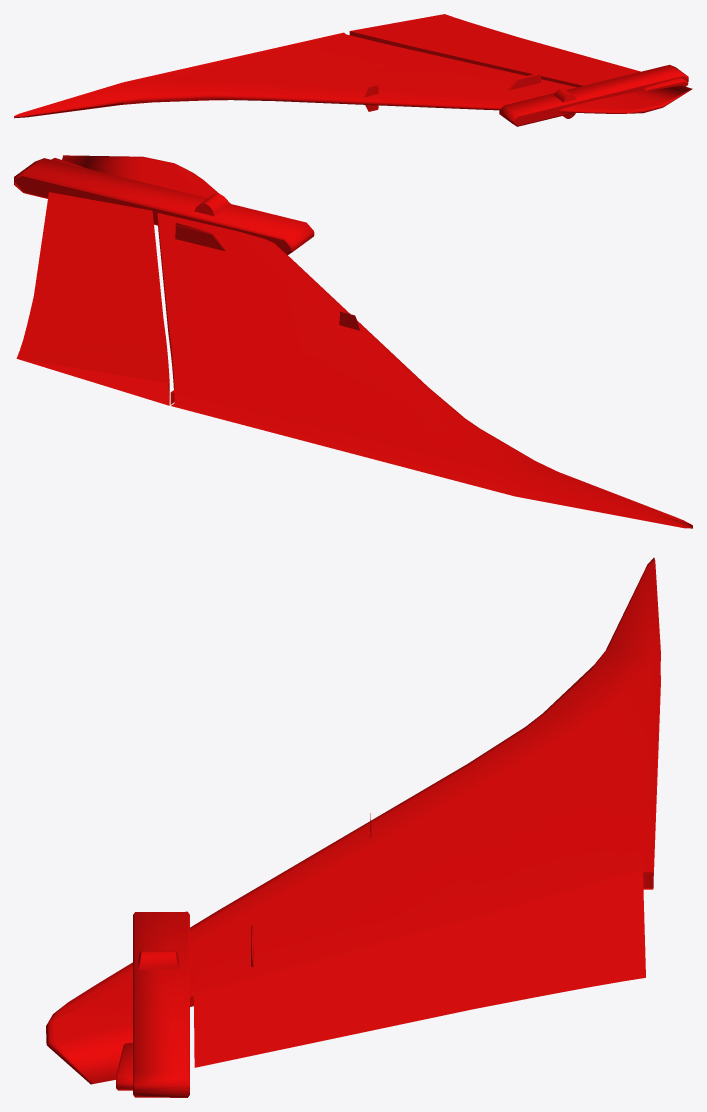
The model's file is rafale_highlight_10.fbx.
The picture shows the model from 3 angles, top to bottom: view 1: azimuth 30°, elevation 25°; view 2: azimuth 150°, elevation 25°; view 3: azimuth 270°, elevation 25°; orthographic projection. The views are drawn at different scales.
Visible parts, largest first — view 1: rafale_highlight_10; view 2: rafale_highlight_10; view 3: rafale_highlight_10.
Boxes of the visible parts, bbox=[...] form: rafale_highlight_10: bbox=[14, 14, 692, 126]; rafale_highlight_10: bbox=[14, 155, 692, 528]; rafale_highlight_10: bbox=[46, 557, 660, 1097].
Size of the model in its own units: 219 by 10.76 by 107.
